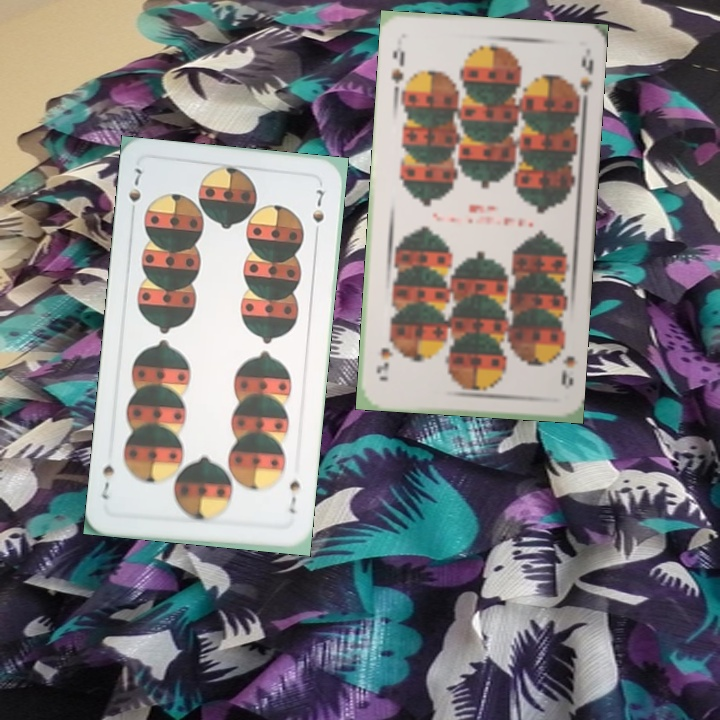S7: (124, 164, 145, 205), (285, 476, 303, 516)
S9: (552, 337, 579, 389), (387, 43, 407, 86)
